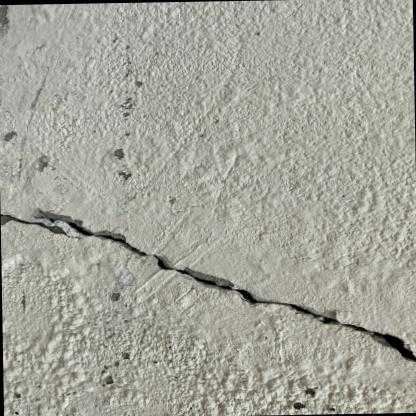crack: (0, 209, 416, 361)
